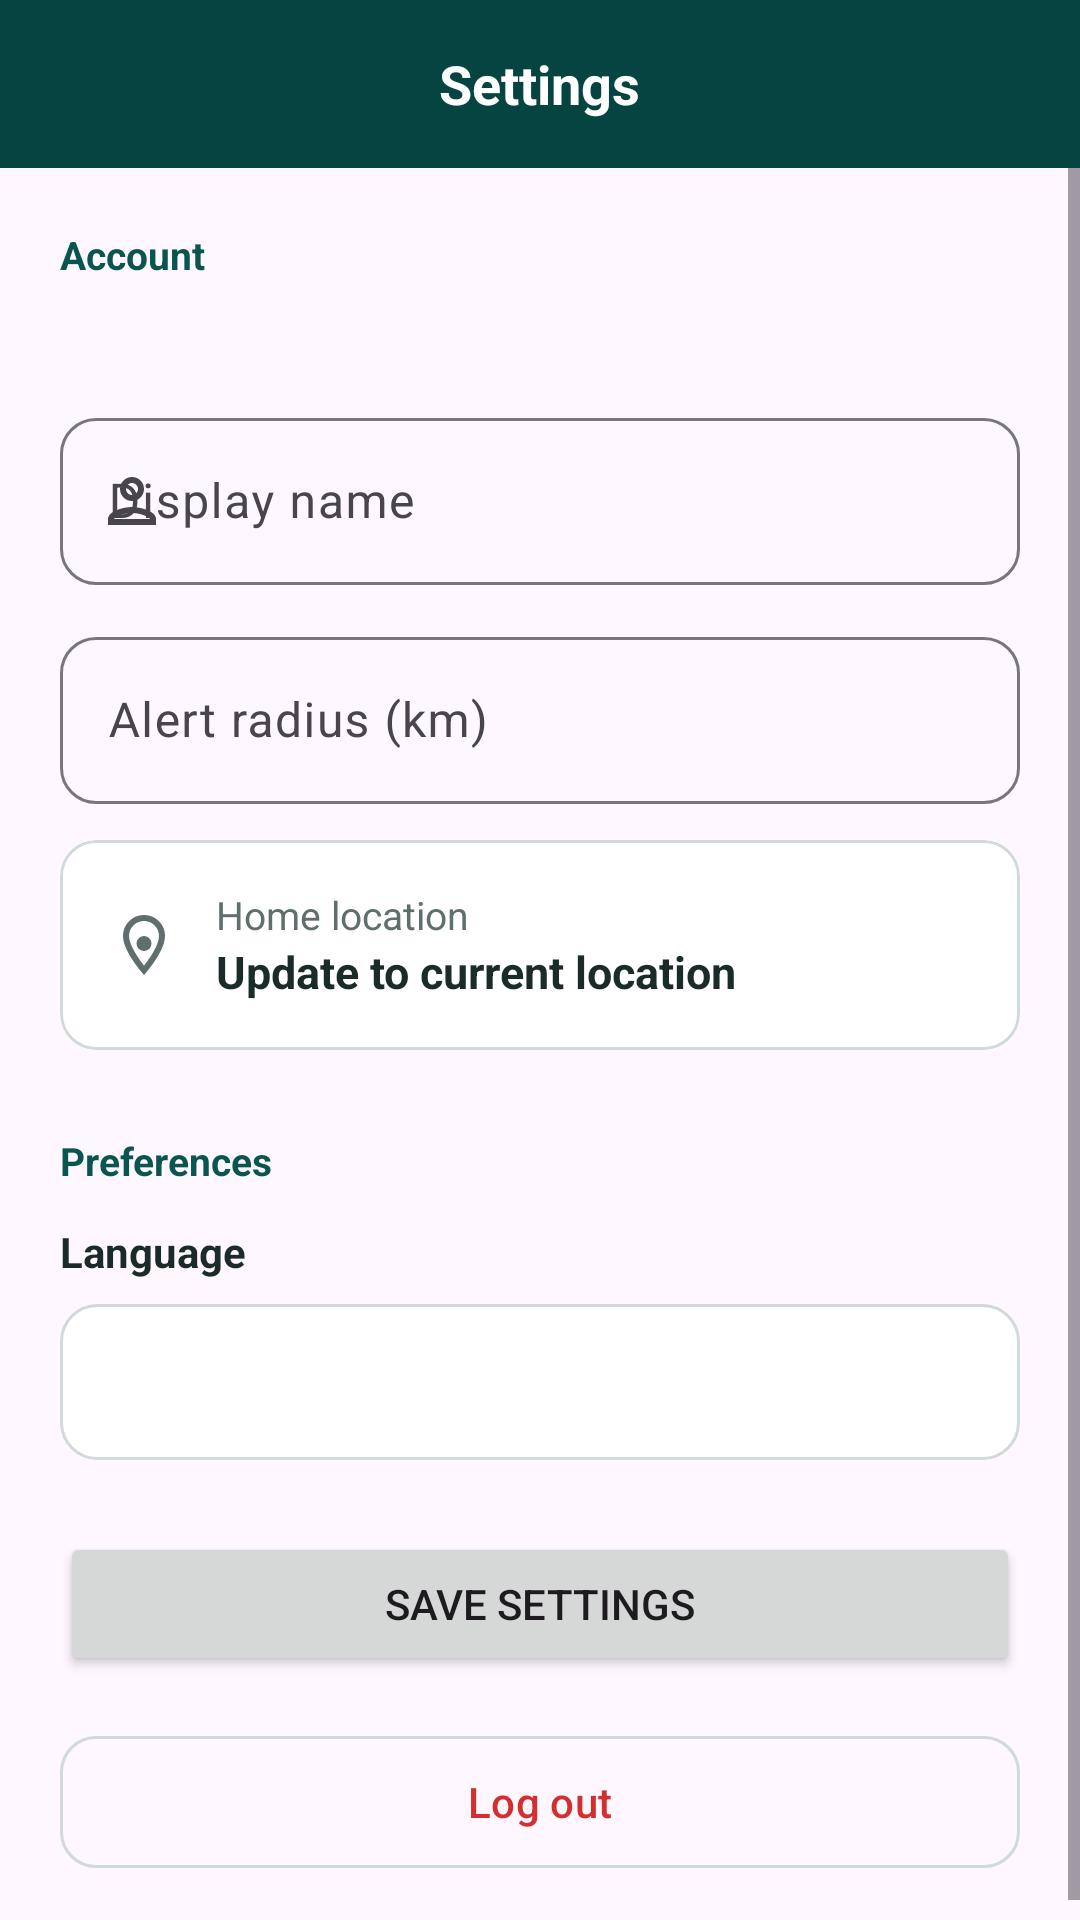

Icons on this 1080w x 1920h Android screen, each with the point to tap as point (x, y):
location on: point (144, 945)
